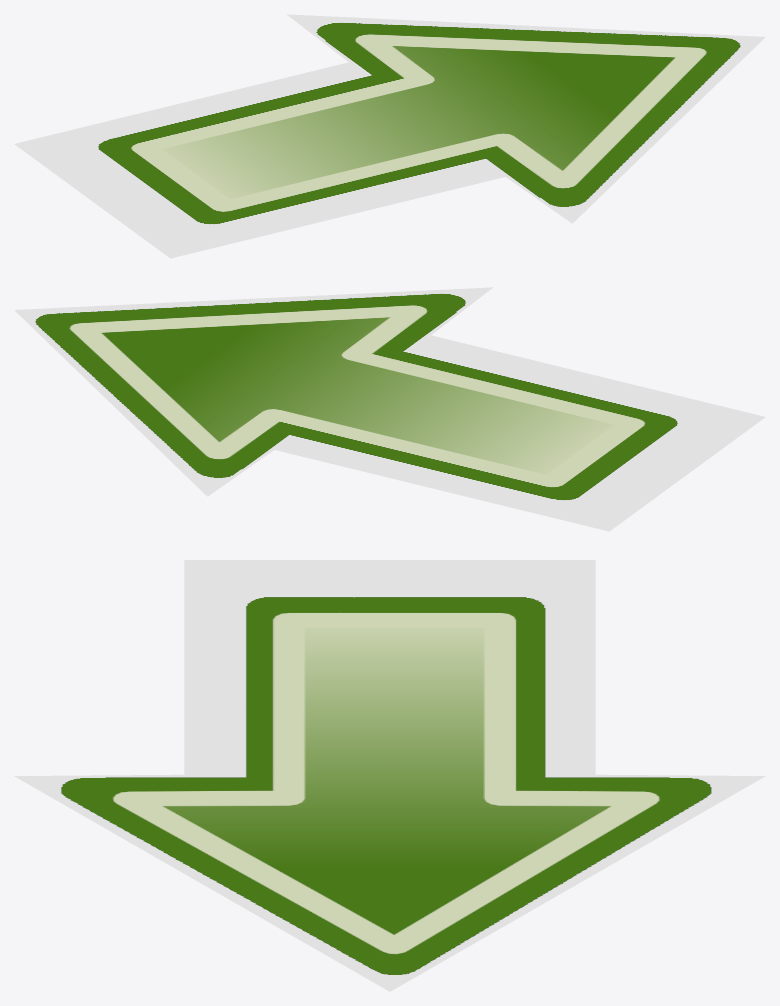
The model's file is Arrow_Type1_V4.FBX.
3 views of the same model, one above another, from view 1: azimuth 30°, elevation 25°; view 2: azimuth 150°, elevation 25°; view 3: azimuth 270°, elevation 25° (orthographic). The views are drawn at different scales.
Visible parts, largest first — view 1: Arrow; view 2: Arrow; view 3: Arrow.
Boxes of the visible parts, <box> form: Arrow: <box>14,14,765,258</box>; Arrow: <box>14,287,765,531</box>; Arrow: <box>14,560,765,991</box>.
Bounding box in the file's own units: 13.07 × 6.11e-16 × 9.61.
1 material, 1 textured.
